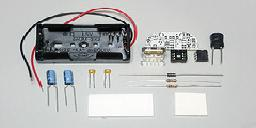Electrolytic-Capacitor: (120, 71, 225, 78), (208, 30, 228, 66), (46, 67, 59, 118), (63, 70, 77, 114), (126, 84, 226, 89), (102, 67, 112, 88), (87, 67, 95, 90)
